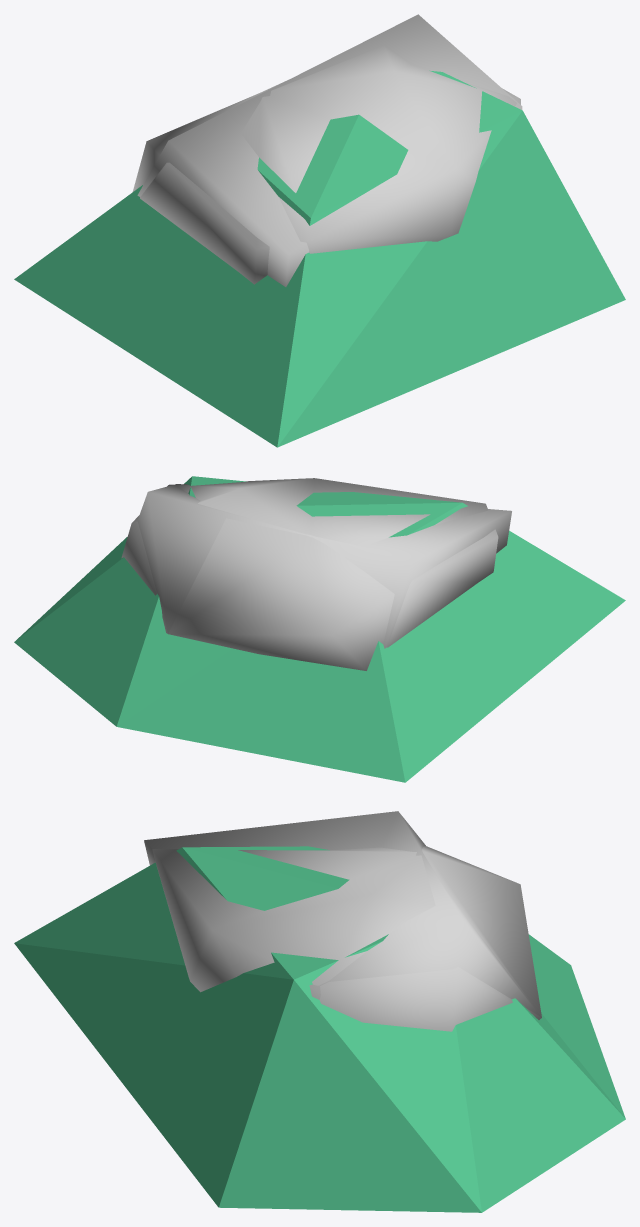
File: rock_01_a_small_a.dae
3 views of the same model, one above another, from view 1: azimuth 30°, elevation 25°; view 2: azimuth 150°, elevation 25°; view 3: azimuth 270°, elevation 25° (orthographic). The views are drawn at different scales.
Visible parts, largest first — view 1: Colmesh-1, tree_oak_bush_a200, tree_oak_bush_a100; view 2: Colmesh-1, tree_oak_bush_a200, tree_oak_bush_a100; view 3: Colmesh-1, tree_oak_bush_a200, tree_oak_bush_a100.
Boxes of the visible parts, <box> form: Colmesh-1: <box>14,70,625,447</box>; tree_oak_bush_a200: <box>132,45,520,284</box>; tree_oak_bush_a100: <box>137,14,522,286</box>; Colmesh-1: <box>14,476,625,782</box>; tree_oak_bush_a200: <box>121,478,498,670</box>; tree_oak_bush_a100: <box>137,484,511,648</box>; Colmesh-1: <box>14,846,625,1212</box>; tree_oak_bush_a200: <box>152,846,541,1031</box>; tree_oak_bush_a100: <box>144,811,541,1017</box>.
Size of the model in its own units: 0.6836 by 0.6786 by 0.2949.
